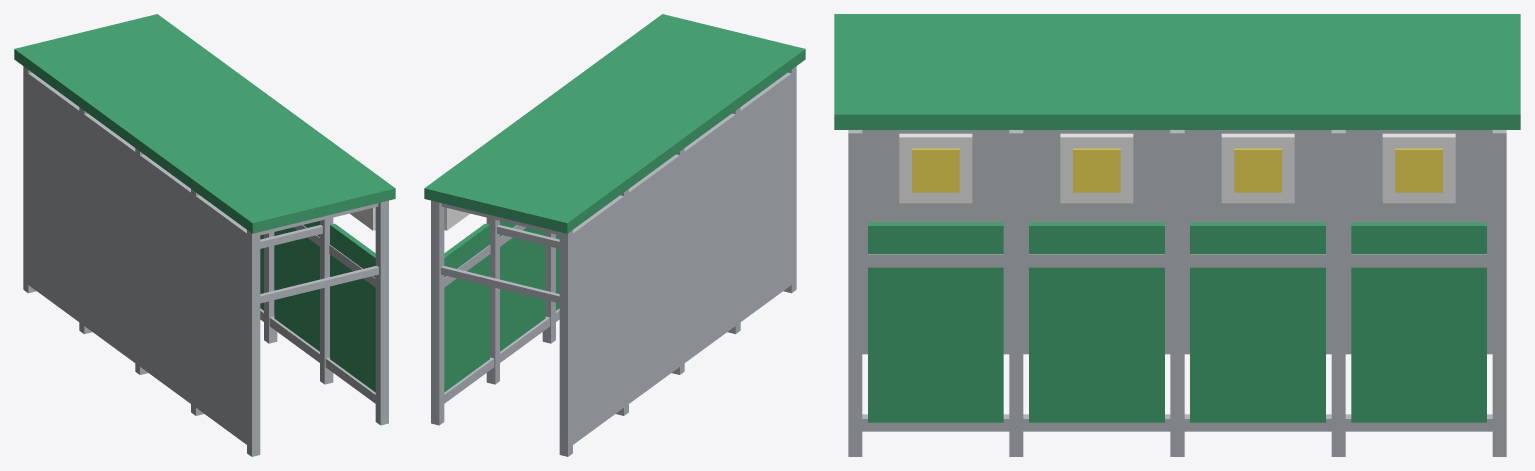
File: starting_gate.glb
3 views of the same model, side by side, from view 1: azimuth 30°, elevation 25°; view 2: azimuth 150°, elevation 25°; view 3: azimuth 270°, elevation 25° (orthographic). The views are drawn at different scales.
Parts seen in each view (by area): view 1: Gate_BackFrame, Gate_Roof, Gate_Door_1, Gate_Door_2, Gate_BackPost_1, Gate_Post_1, Gate_Post_2, Gate_BottomRail_Front, Gate_Divider_1, Gate_BackPost_2, Gate_Post_3, Gate_BackPost_3 (+5 smaller); view 2: Gate_BackFrame, Gate_Roof, Gate_Door_4, Gate_Door_3, Gate_BackPost_5, Gate_Post_5, Gate_Post_4, Gate_BottomRail_Front, Gate_Divider_5, Gate_BackPost_3, Gate_BackPost_4, Gate_Post_3 (+5 smaller); view 3: Gate_Roof, Gate_BackFrame, Gate_Door_1, Gate_Door_2, Gate_Door_3, Gate_Door_4, Gate_BottomRail_Front, Gate_Post_1, Gate_Post_2, Gate_Post_3, Gate_Post_4, Gate_Post_5 (+13 smaller).
Boxes of the visible parts, x1=… form: Gate_BackFrame: x1=26, y1=72, x2=249, y2=445; Gate_Roof: x1=14, y1=14, x2=395, y2=233; Gate_Door_1: x1=330, y1=223, x2=375, y2=392; Gate_Door_2: x1=274, y1=221, x2=319, y2=351; Gate_BackPost_1: x1=247, y1=230, x2=260, y2=456; Gate_Post_1: x1=375, y1=200, x2=388, y2=425; Gate_Post_2: x1=320, y1=217, x2=333, y2=384; Gate_BottomRail_Front: x1=260, y1=308, x2=375, y2=403; Gate_Divider_1: x1=260, y1=266, x2=378, y2=303; Gate_BackPost_2: x1=191, y1=189, x2=203, y2=415; Gate_Post_3: x1=264, y1=232, x2=277, y2=343; Gate_BackPost_3: x1=135, y1=148, x2=147, y2=374; Gate_BackFrame: x1=570, y1=72, x2=793, y2=446; Gate_Roof: x1=424, y1=14, x2=805, y2=233; Gate_Door_4: x1=444, y1=223, x2=489, y2=392; Gate_Door_3: x1=500, y1=221, x2=545, y2=351; Gate_BackPost_5: x1=559, y1=230, x2=572, y2=456; Gate_Post_5: x1=431, y1=200, x2=444, y2=425; Gate_Post_4: x1=486, y1=217, x2=499, y2=384; Gate_BottomRail_Front: x1=444, y1=308, x2=559, y2=403; Gate_Divider_5: x1=441, y1=266, x2=559, y2=303; Gate_BackPost_3: x1=672, y1=148, x2=684, y2=374; Gate_BackPost_4: x1=616, y1=189, x2=628, y2=415; Gate_Post_3: x1=542, y1=232, x2=555, y2=343; Gate_Roof: x1=834, y1=14, x2=1520, y2=129; Gate_BackFrame: x1=862, y1=139, x2=1492, y2=354; Gate_Door_1: x1=868, y1=222, x2=1003, y2=422; Gate_Door_2: x1=1029, y1=222, x2=1164, y2=422; Gate_Door_3: x1=1190, y1=222, x2=1325, y2=422; Gate_Door_4: x1=1351, y1=222, x2=1486, y2=422; Gate_BottomRail_Front: x1=862, y1=414, x2=1492, y2=431; Gate_Post_1: x1=848, y1=130, x2=862, y2=456; Gate_Post_2: x1=1009, y1=130, x2=1023, y2=456; Gate_Post_3: x1=1170, y1=130, x2=1184, y2=456; Gate_Post_4: x1=1331, y1=130, x2=1345, y2=456; Gate_Post_5: x1=1492, y1=130, x2=1506, y2=456.
Size of the model in its own units: 1.78 by 2.71 by 4.9.
